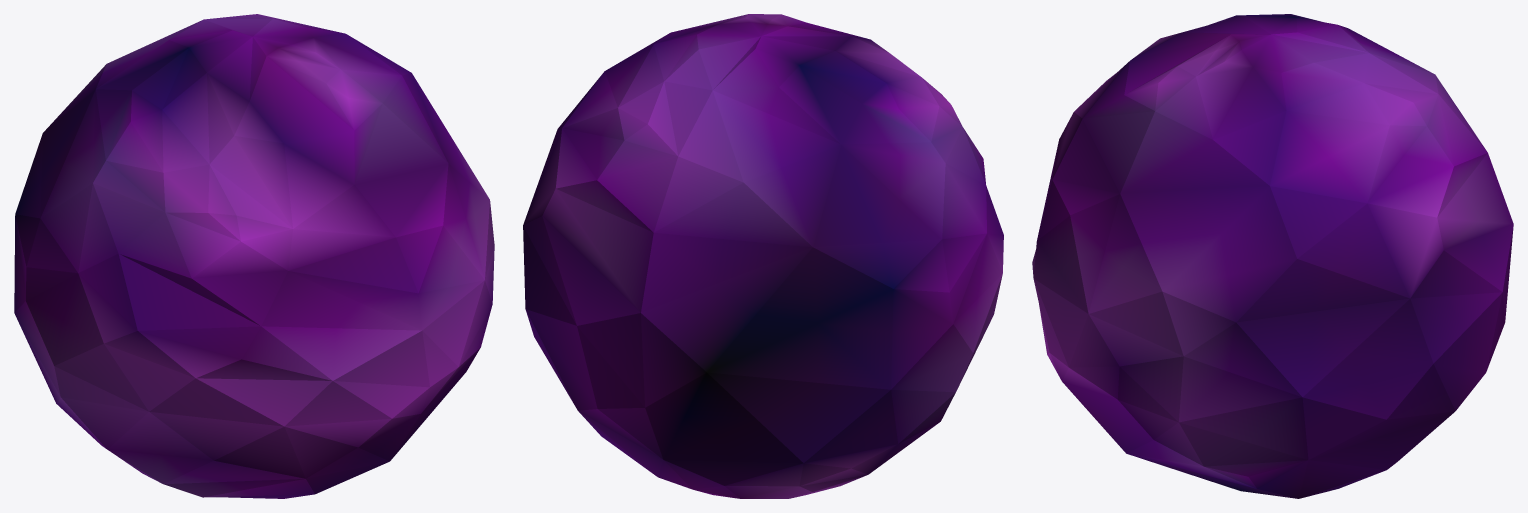
3 views of the same model, side by side, from view 1: azimuth 30°, elevation 25°; view 2: azimuth 150°, elevation 25°; view 3: azimuth 270°, elevation 25° (orthographic).
Visible parts, largest first — view 1: part0; view 2: part0; view 3: part0.
Part boxes in pixels (x1,y1,x2,y2): part0: (14,14,494,498); part0: (523,14,1003,498); part0: (1032,14,1513,498).
Size of the model in its own units: 12.82 by 13.03 by 12.81.
